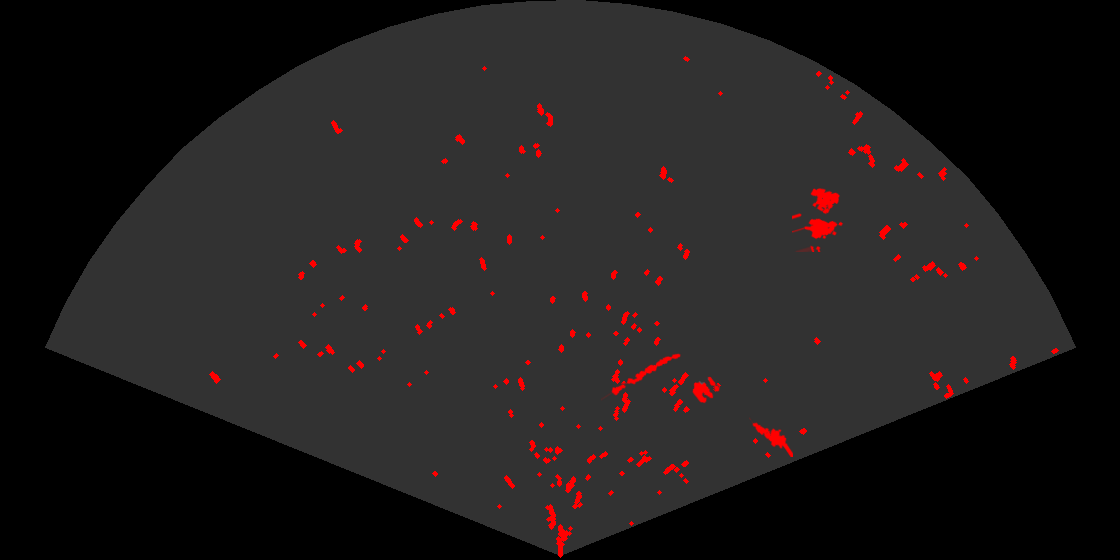ball: (691, 375, 721, 405)
cage: (792, 187, 845, 252)
chain: (601, 352, 682, 401)
frogman: (749, 416, 793, 457)
